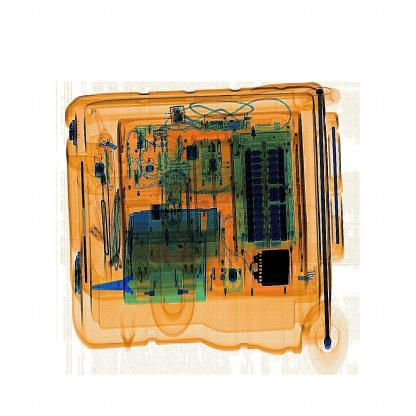gun: (93, 259, 161, 319)
